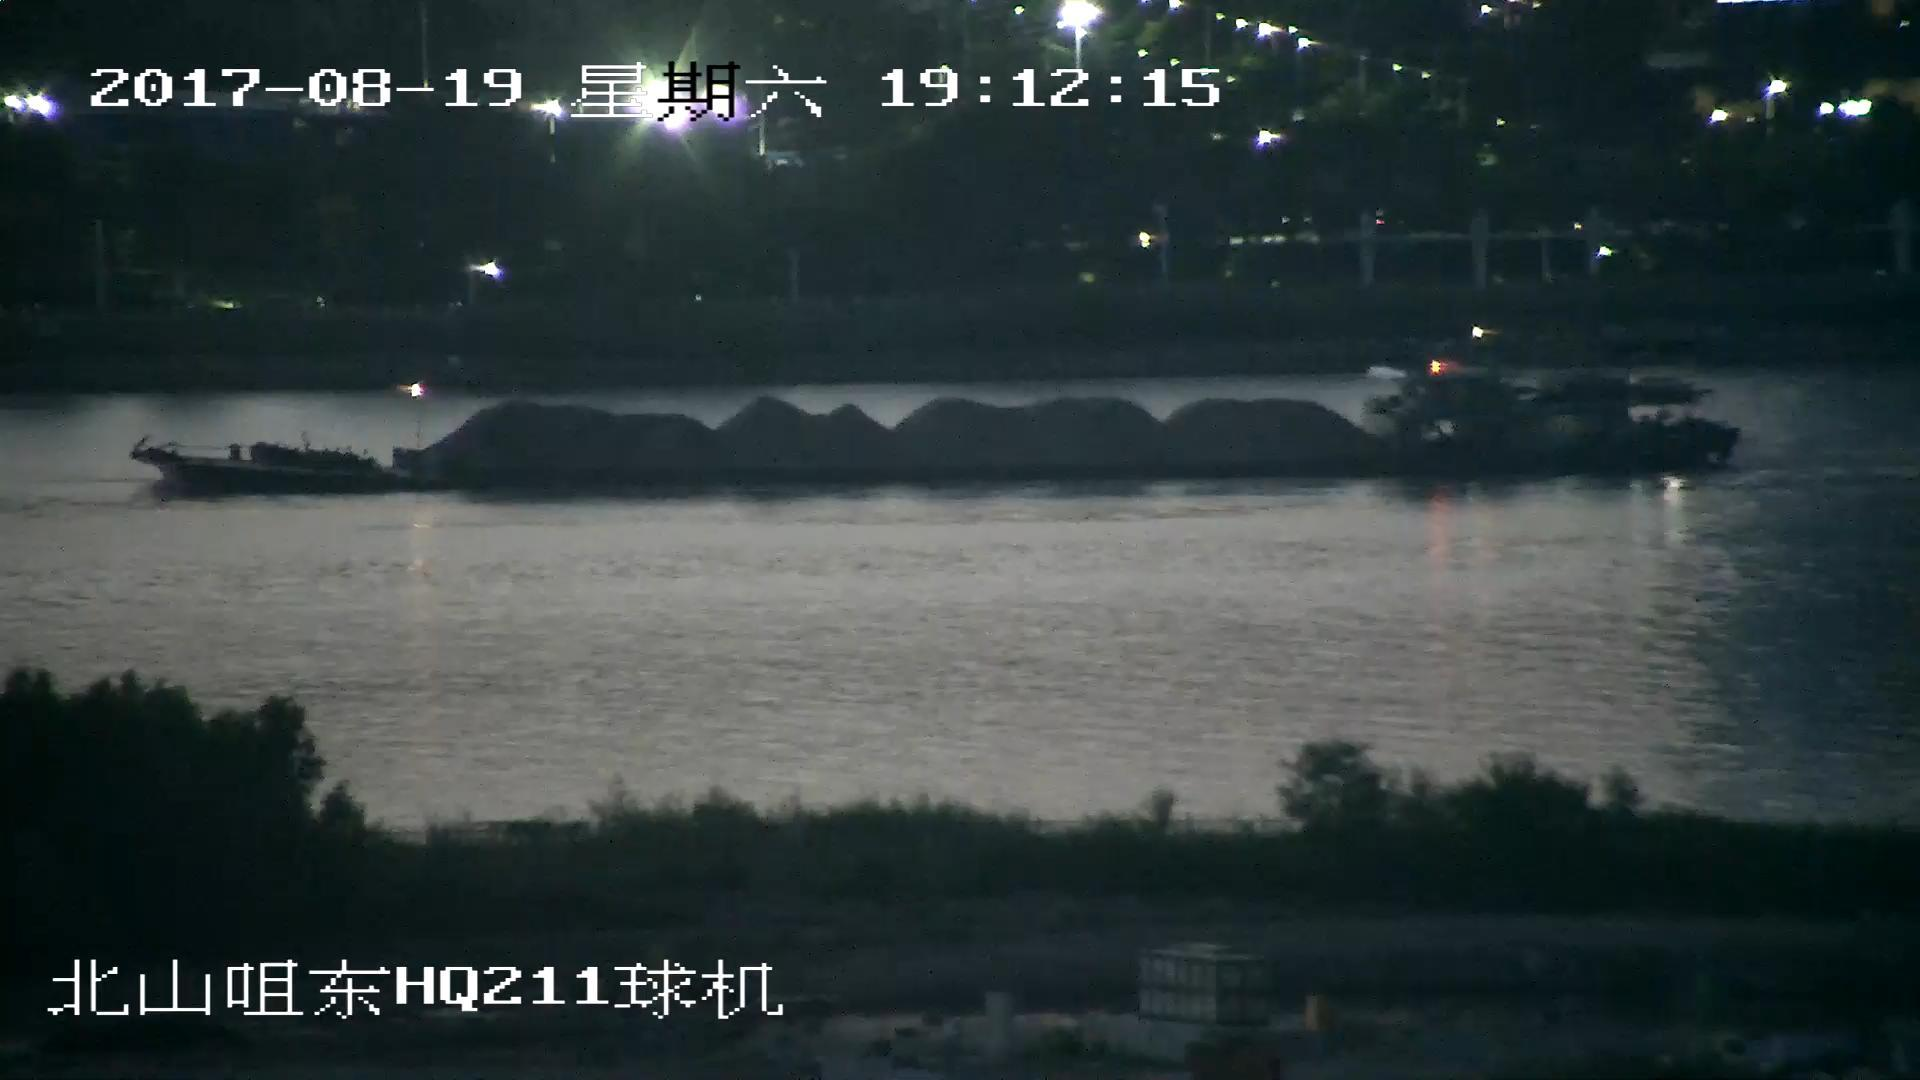Ship: (125, 365, 1745, 512)
